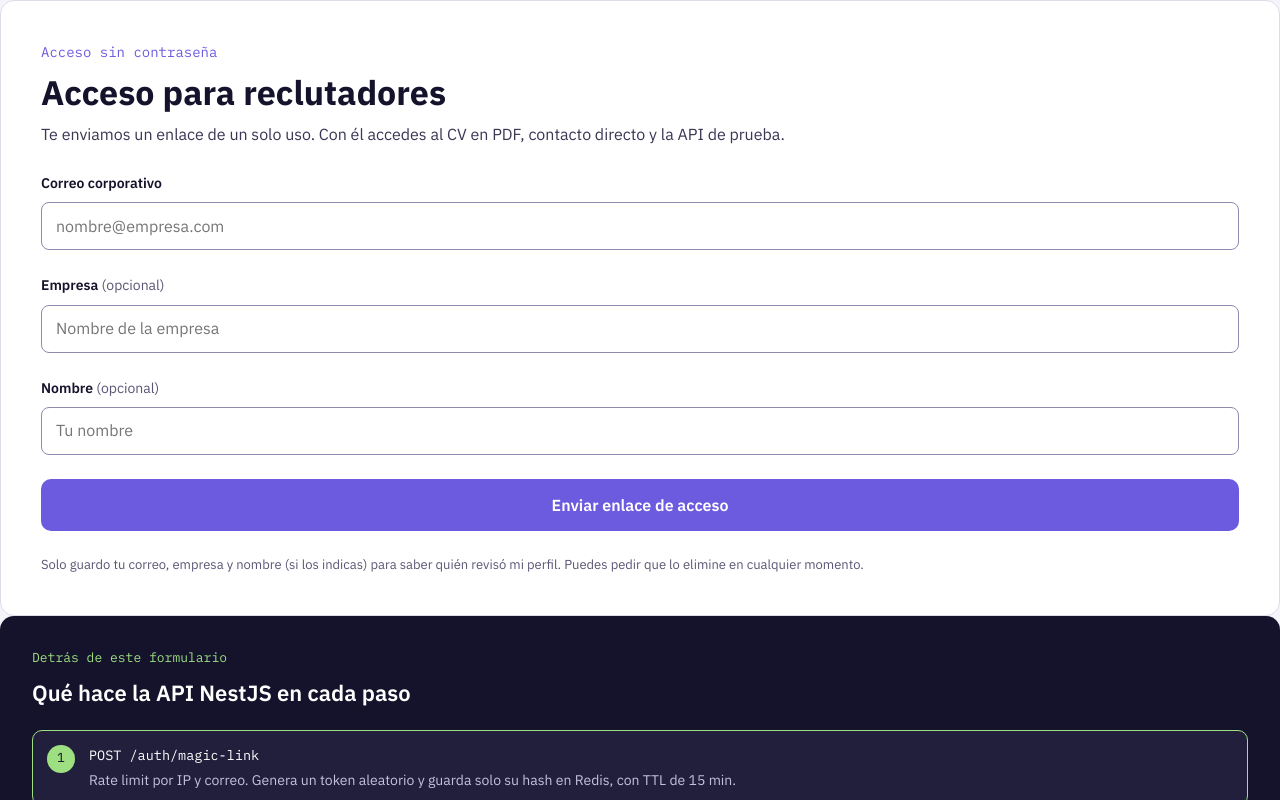
Test: LoginContainer › uses the configured gateway by default (mock mode)
This screenshot has width=1280, height=800.
Type "ana@empresa.com" into the field labelled "Correo corporativo" at (640, 226), box x1=41 y1=202 x2=1239 y2=250
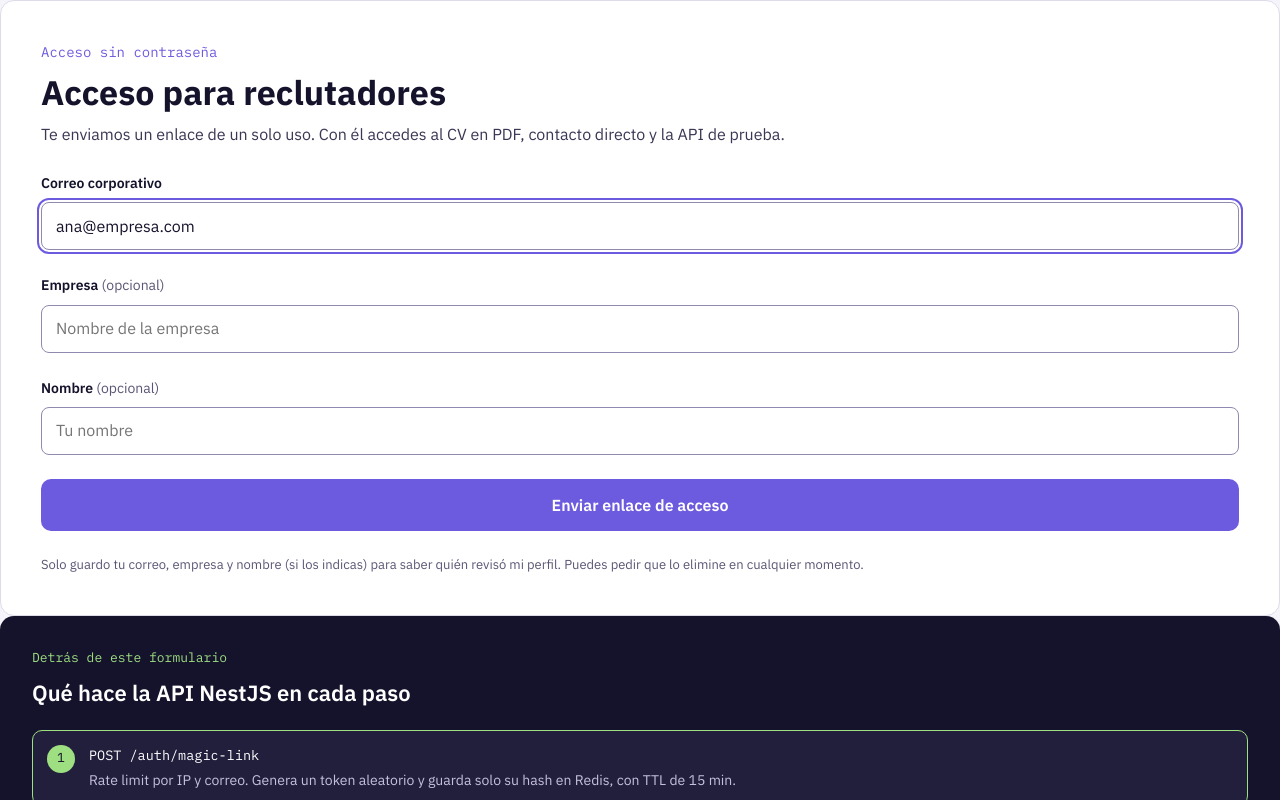
Click the button "Enviar enlace de acceso" at (640, 505), box x1=41 y1=479 x2=1239 y2=531
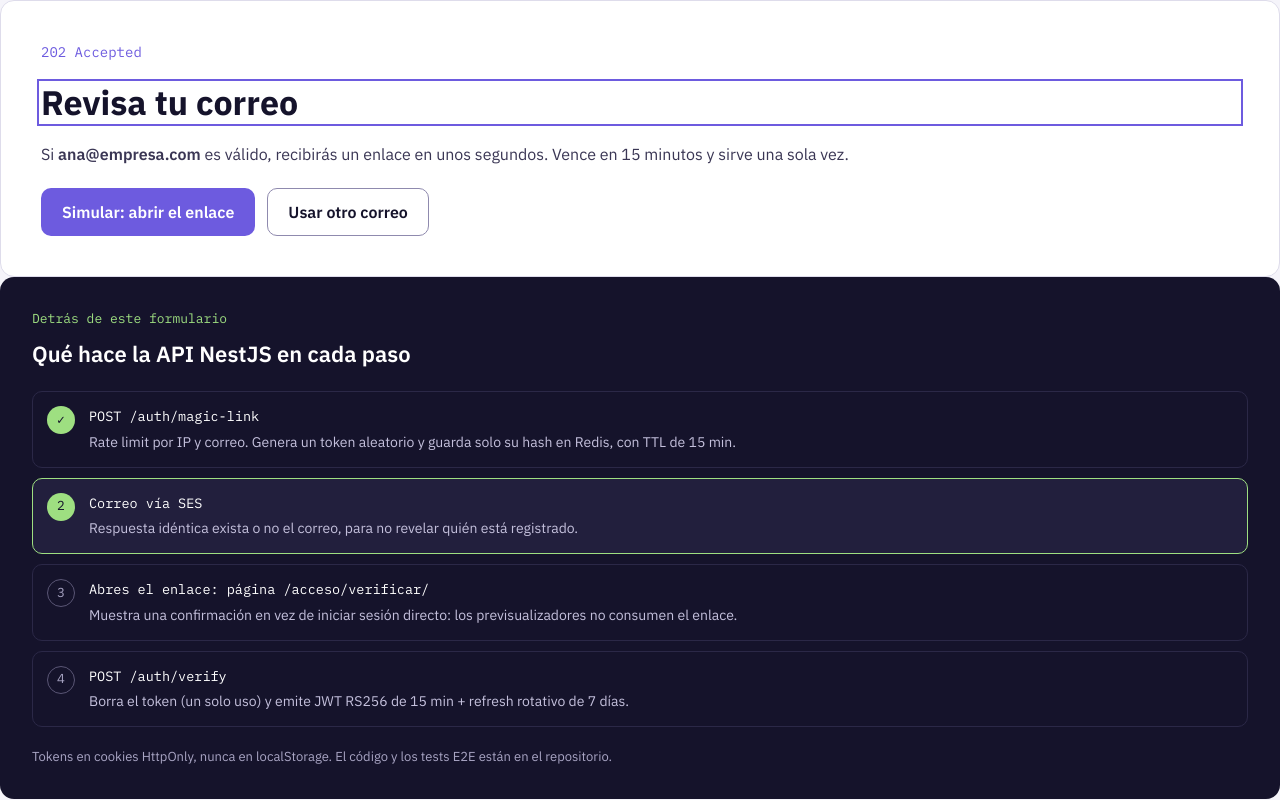
Check: the heading "Revisa tu correo" is shown, box x1=41 y1=80 x2=298 y2=124
